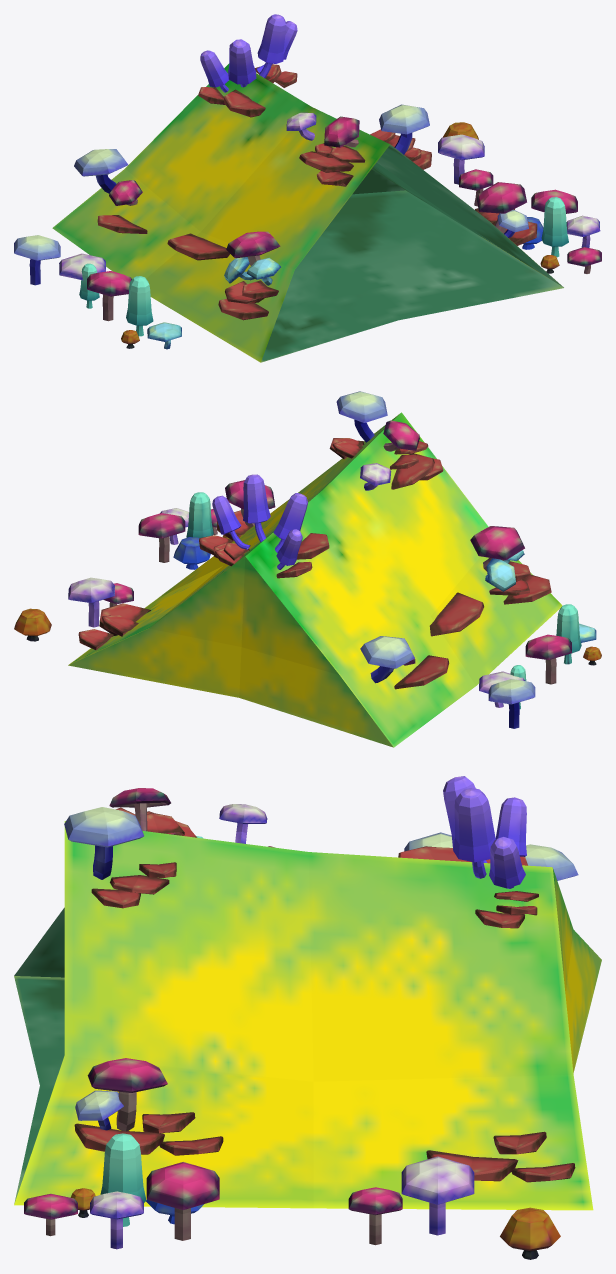
The model's file is tent.fbx.
3 renders of one model, top to bottom at view 1: azimuth 30°, elevation 25°; view 2: azimuth 150°, elevation 25°; view 3: azimuth 270°, elevation 25°, orthographic. The views are drawn at different scales.
Parts seen in each view (by area): view 1: tent, plants; view 2: tent, plants; view 3: tent, plants.
Boxes of the visible parts, <box> form: tent: <box>52,63,563,362</box>; plants: <box>14,14,601,349</box>; tent: <box>68,412,562,747</box>; plants: <box>14,391,601,728</box>; tent: <box>14,821,601,1210</box>; plants: <box>24,776,578,1259</box>.
Size of the model in its own units: 7.13 by 2.87 by 4.74.
2 materials, 2 textured.
